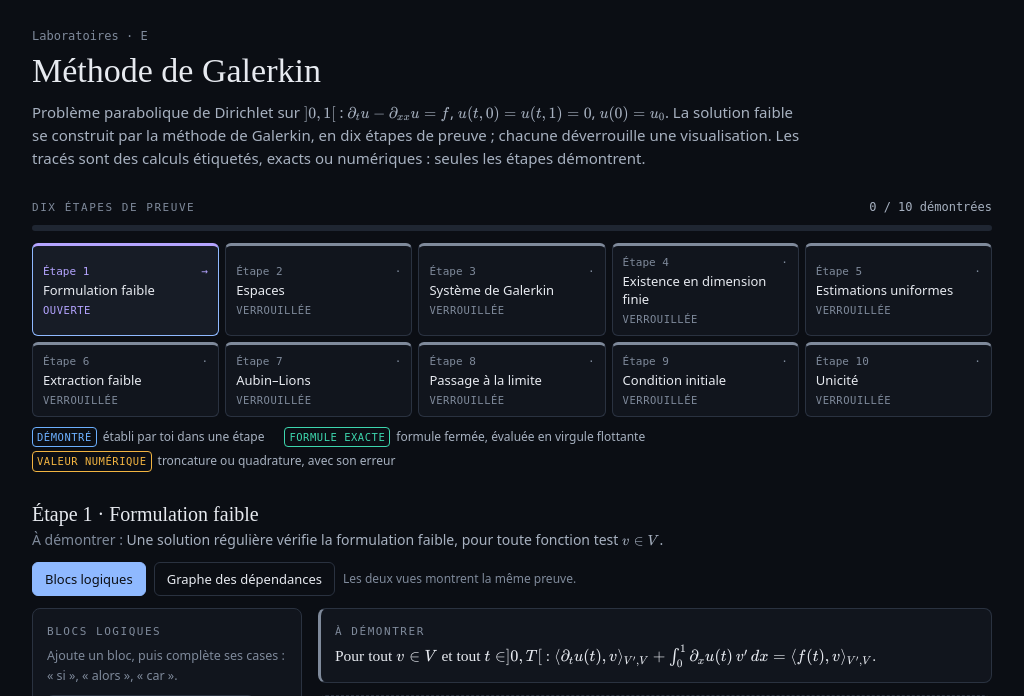
Test case: Laboratoire E — rendu › exploration, frise et première étape ouverte ; les suivantes verrouillées
Expected: the heading "Méthode de Galerkin" is shown, [32, 52, 321, 89]
Expected: the heading "À démontrer" is shown, [335, 623, 425, 640]
Click the button with test id "frise-2" at (319,289), box [225, 243, 412, 336]
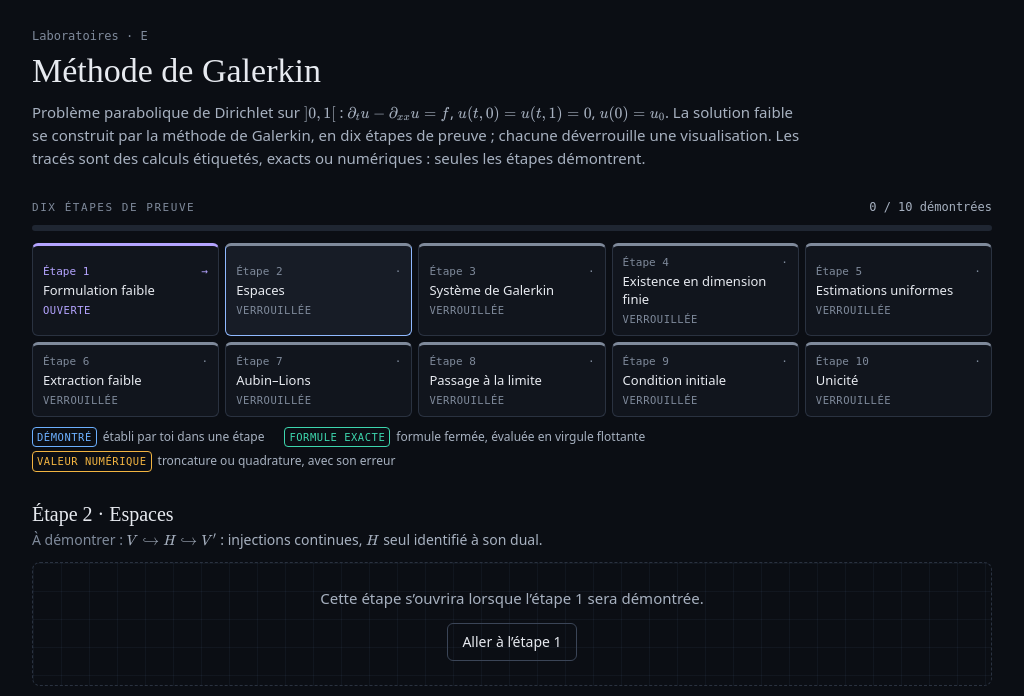
Expected: the element with test id "etape-verrouillee" is shown, [32, 562, 992, 686]
